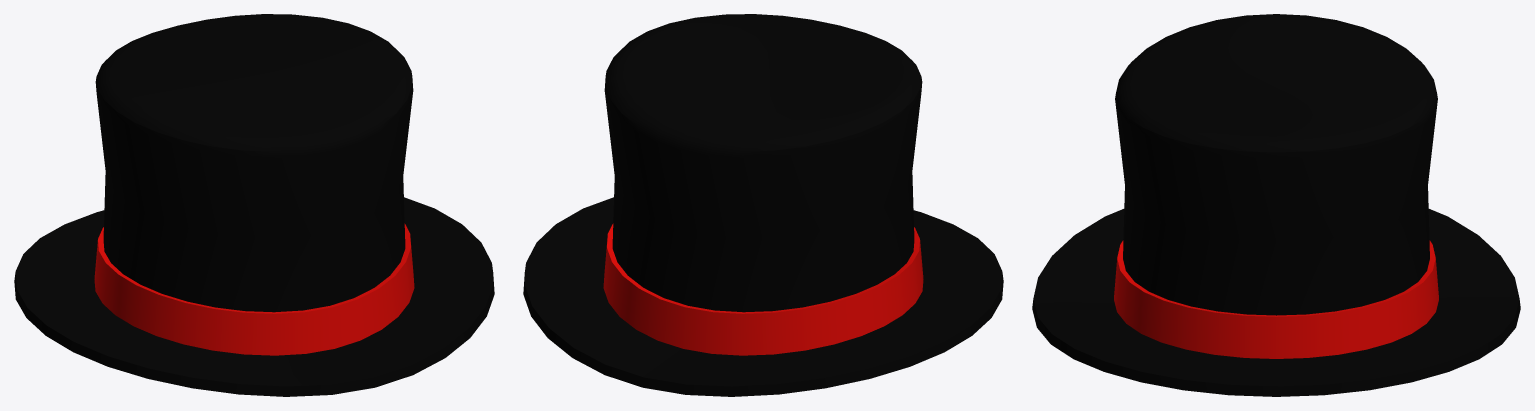
Rendered from Top Hat.fbx.
3 views of the same model, side by side, from view 1: azimuth 30°, elevation 25°; view 2: azimuth 150°, elevation 25°; view 3: azimuth 270°, elevation 25° (orthographic).
Parts seen in each view (by area): view 1: Top Hat; view 2: Top Hat; view 3: Top Hat.
Part boxes in pixels (x1,y1,x2,y2): Top Hat: (14,14,494,396); Top Hat: (523,14,1003,396); Top Hat: (1032,14,1520,396).
Bounding box in the file's own units: 147 × 147 × 76.96.
